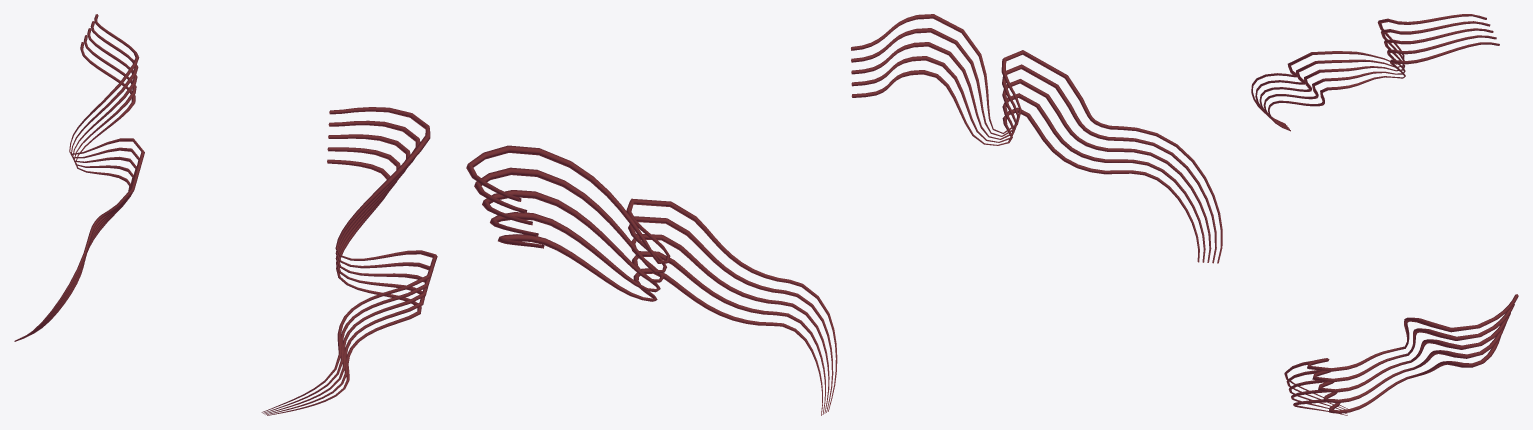
File: NoteLines.fbx
The picture shows the model from 3 angles, left to right: view 1: azimuth 30°, elevation 25°; view 2: azimuth 150°, elevation 25°; view 3: azimuth 270°, elevation 25°; orthographic projection. The views are drawn at different scales.
Visible parts, largest first — view 1: MusicLineMesh.005; view 2: MusicLineMesh.005; view 3: MusicLineMesh.005.
Boxes of the visible parts, x1=… form: MusicLineMesh.005: x1=14, y1=14, x2=437, y2=415; MusicLineMesh.005: x1=466, y1=14, x2=1222, y2=415; MusicLineMesh.005: x1=1251, y1=14, x2=1518, y2=415.
Size of the model in its own units: 4036 by 2856 by 1960.
